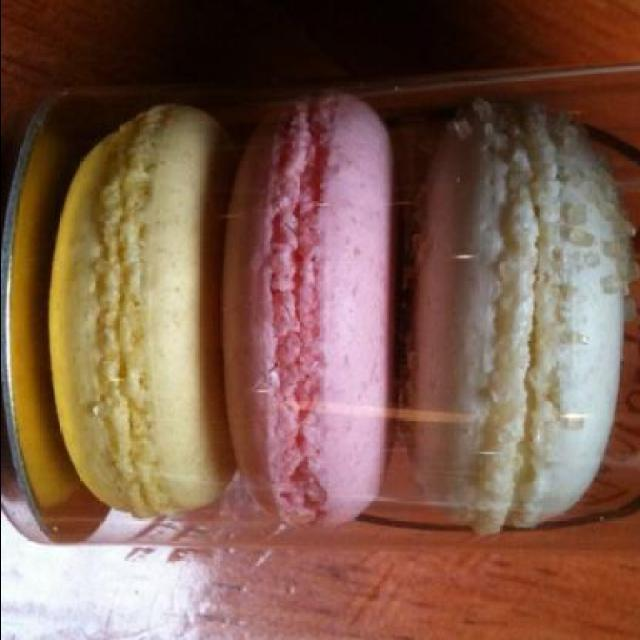Macaron: (56, 84, 634, 548)
